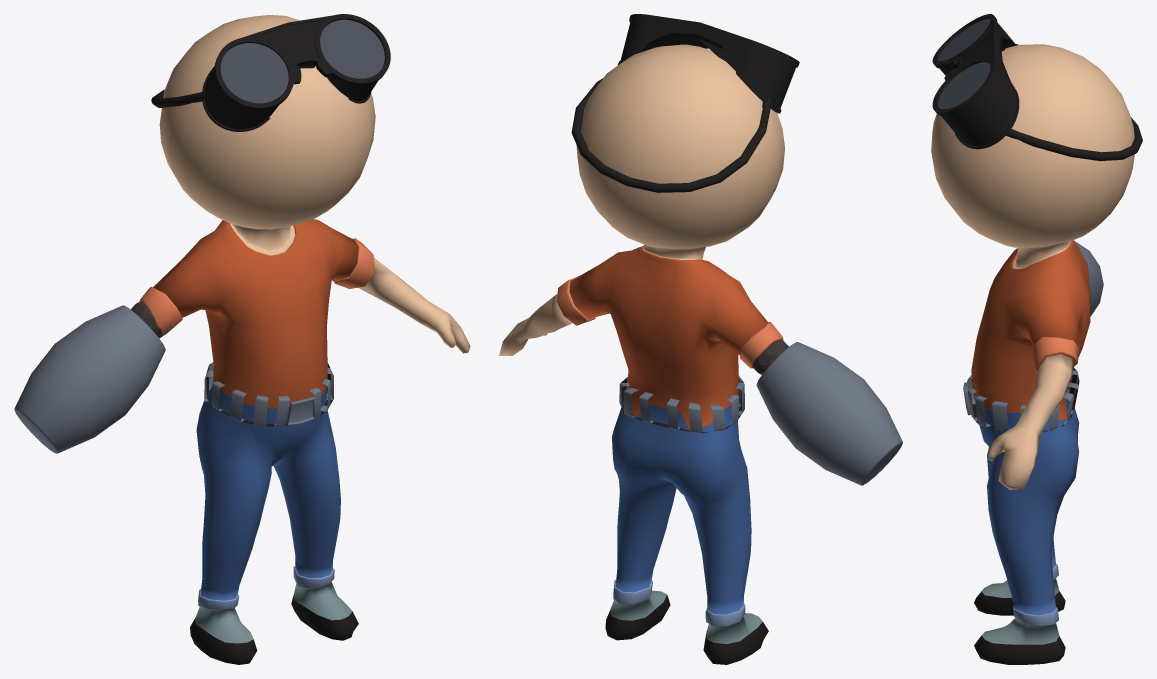
The model's file is Character (v.1).fbx.
3 views of the same model, side by side, from view 1: azimuth 30°, elevation 25°; view 2: azimuth 150°, elevation 25°; view 3: azimuth 270°, elevation 25° (orthographic). The views are drawn at different scales.
Visible parts, largest first — view 1: human; view 2: human; view 3: human.
Part boxes in pixels (x1,y1,x2,y2): human: (14,14,470,664); human: (499,14,902,664); human: (931,14,1142,664).
Bounding box in the file's own units: 136 × 190 × 61.38.
